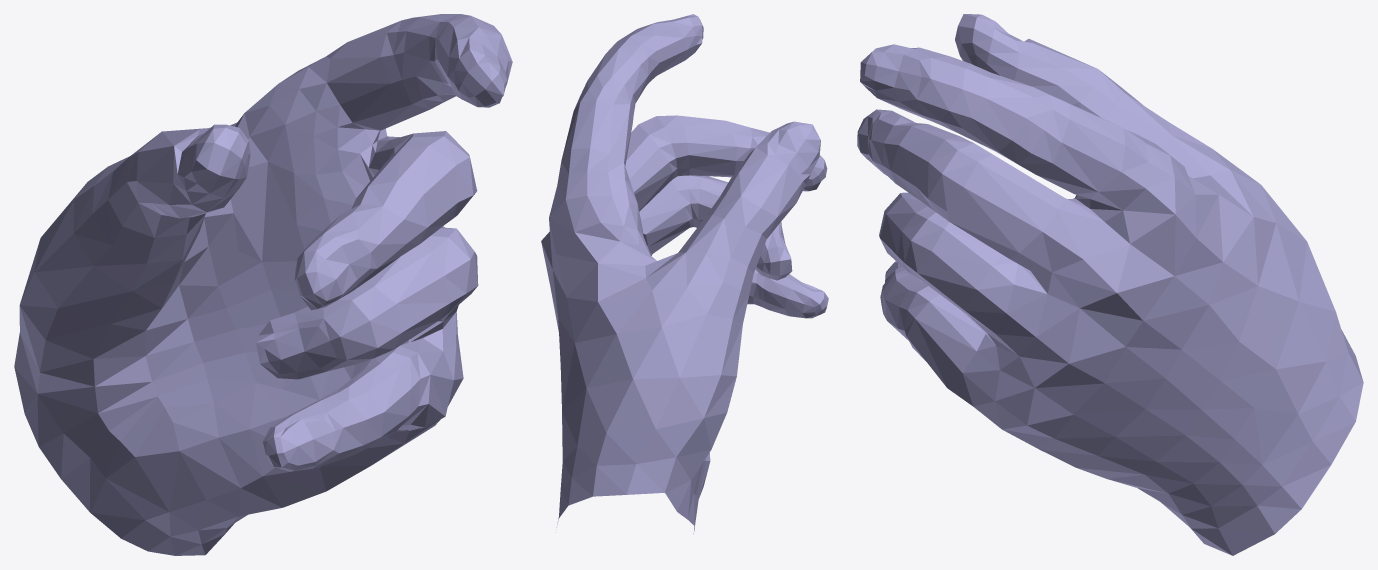
File: hand_0132.glb
The picture shows the model from 3 angles, left to right: view 1: azimuth 30°, elevation 25°; view 2: azimuth 150°, elevation 25°; view 3: azimuth 270°, elevation 25°; orthographic projection. The views are drawn at different scales.
Parts seen in each view (by area): view 1: world; view 2: world; view 3: world.
Part boxes in pixels (<box>): world: <box>14,14,512,555</box>; world: <box>541,14,828,533</box>; world: <box>857,14,1363,555</box>.
Bounding box in the file's own units: 0.0779 × 0.1415 × 0.1211.
